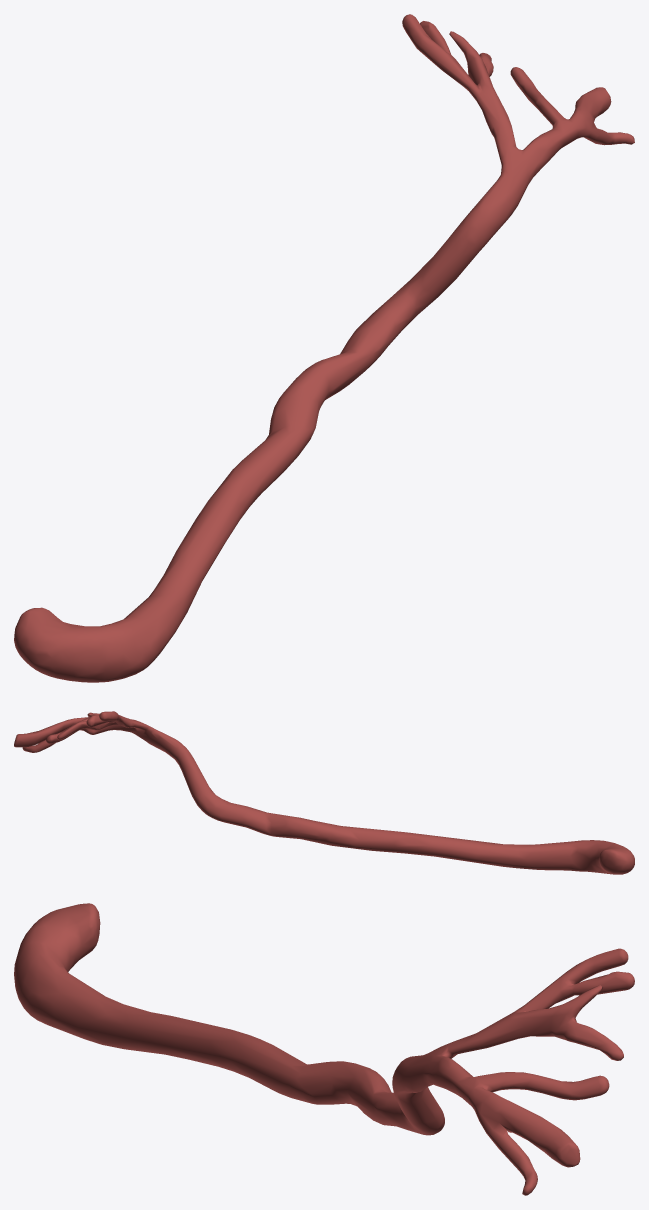
The model's file is FMA14773.glb.
3 renders of one model, top to bottom at view 1: azimuth 30°, elevation 25°; view 2: azimuth 150°, elevation 25°; view 3: azimuth 270°, elevation 25°, orthographic. The views are drawn at different scales.
Parts seen in each view (by area): view 1: FMA14773; view 2: FMA14773; view 3: FMA14773.
Boxes of the visible parts, box(x1,y1,x2,y2) form: FMA14773: box(14, 14, 634, 682); FMA14773: box(14, 711, 634, 874); FMA14773: box(14, 903, 634, 1195).
Size of the model in its own units: 0.088 by 0.0335 by 0.0528.
